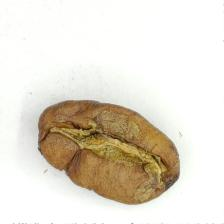NG: (49, 108, 175, 201)
